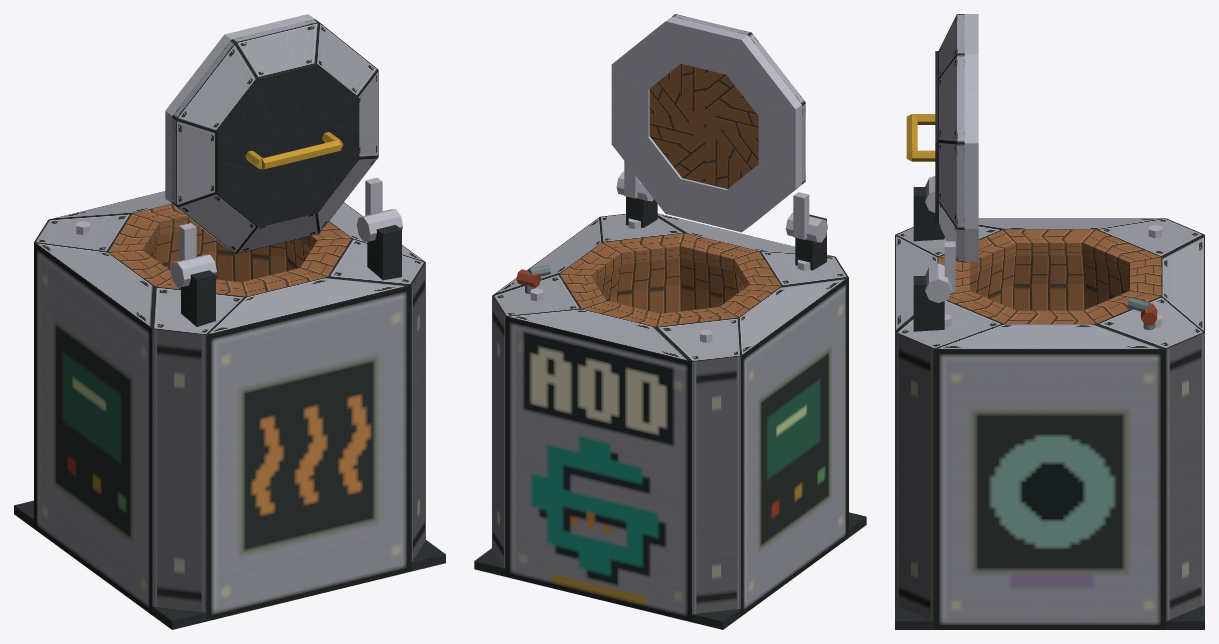
Rendered from small_aod_stainless_steel_open.obj.
The picture shows the model from 3 angles, left to right: view 1: azimuth 30°, elevation 25°; view 2: azimuth 150°, elevation 25°; view 3: azimuth 270°, elevation 25°; orthographic projection. The views are drawn at different scales.
Parts seen in each view (by area): view 1: contact_south, lid, contact_west, cut_corners, shoulder, rim, hinge, lining, sole_edge; view 2: contact_north, lid, contact_west, shoulder, cut_corners, rim, lining, hinge, sole_edge, gas_trim; view 3: contact_east, cut_corners, shoulder, lid, rim, lining, hinge, sole_edge, gas_trim.
Boxes of the visible parts, x1,y1,x2,y2 form: contact_south: (206,285,411,621); lid: (165,14,382,260); contact_west: (34,242,152,614); cut_corners: (152,263,425,612); shoulder: (34,191,425,335); rim: (108,204,351,296); hinge: (170,209,402,326); lining: (148,226,311,282); sole_edge: (14,500,445,629); contact_north: (505,316,691,622); lid: (611,14,809,239); contact_west: (741,277,848,616); shoulder: (492,213,848,361); cut_corners: (492,296,740,614); rim: (559,233,781,326); lining: (596,258,744,313); hinge: (616,171,827,270); sole_edge: (474,512,866,629); gas_trim: (516,265,550,293); contact_east: (933,349,1166,629); cut_corners: (895,333,1204,620); shoulder: (895,218,1204,349); lid: (906,14,978,291); rim: (938,229,1161,323); lining: (970,255,1129,310); hinge: (913,176,951,331); sole_edge: (895,605,1204,629); gas_trim: (1127,298,1157,330).
Bounding box in the file's own units: 1 × 1.89 × 1.
14 materials, 14 textured.
